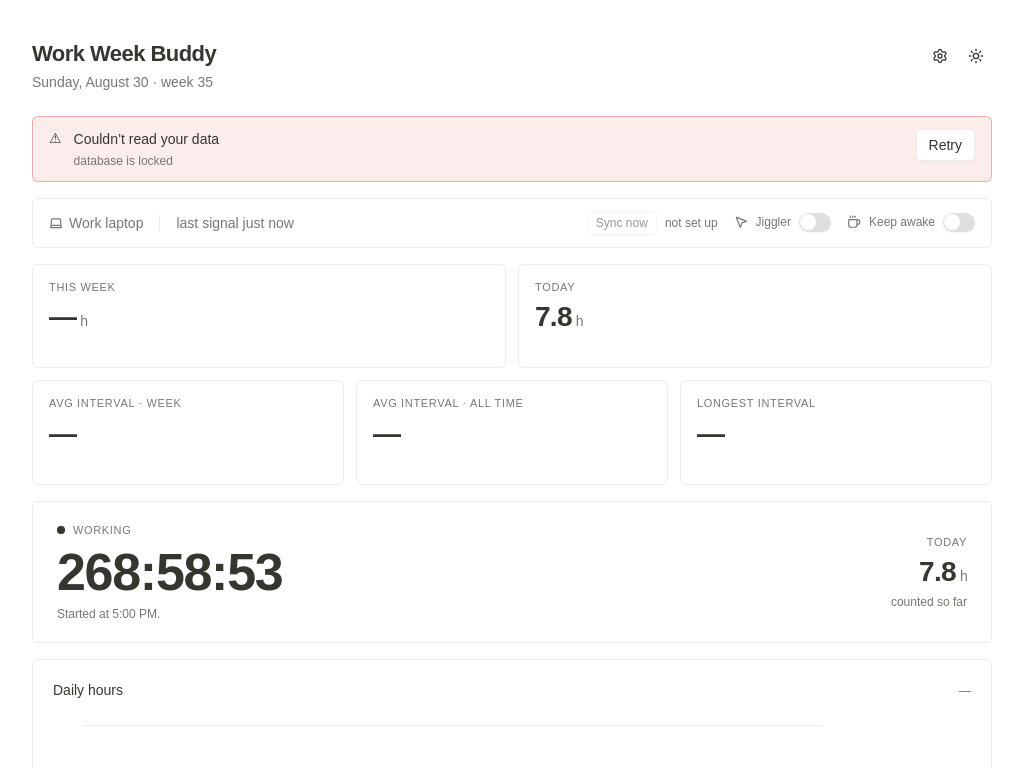
an IPC failure › retries every query when the banner's Retry is pressed
Click the button "Retry": (945, 144) top-left (916, 128), bottom-right (975, 160)
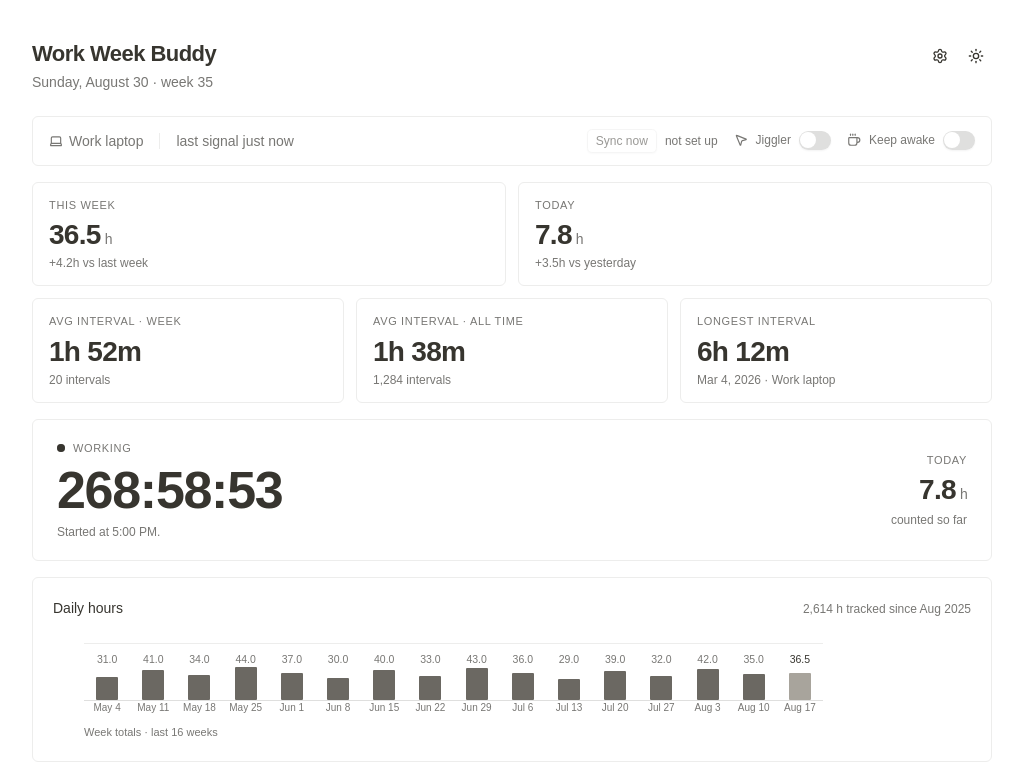
Check: the message "⚠︎ Couldn’t read your data database is locked Retry" is gone
